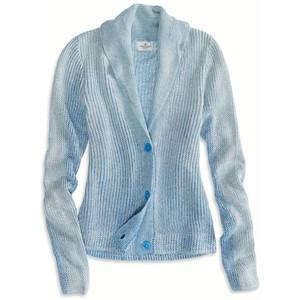S_cardigan sweater: (45, 16, 249, 288)
